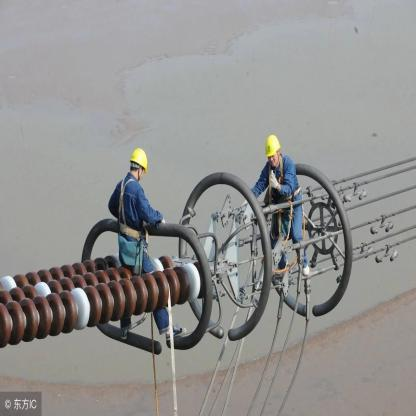helmet: (128, 147, 149, 173), (266, 134, 282, 156)
person: (106, 146, 186, 340), (247, 133, 311, 282)
